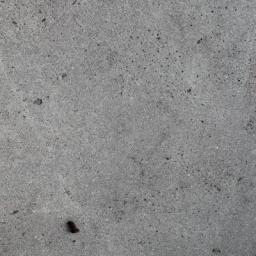FOD: (64, 217, 82, 237)
